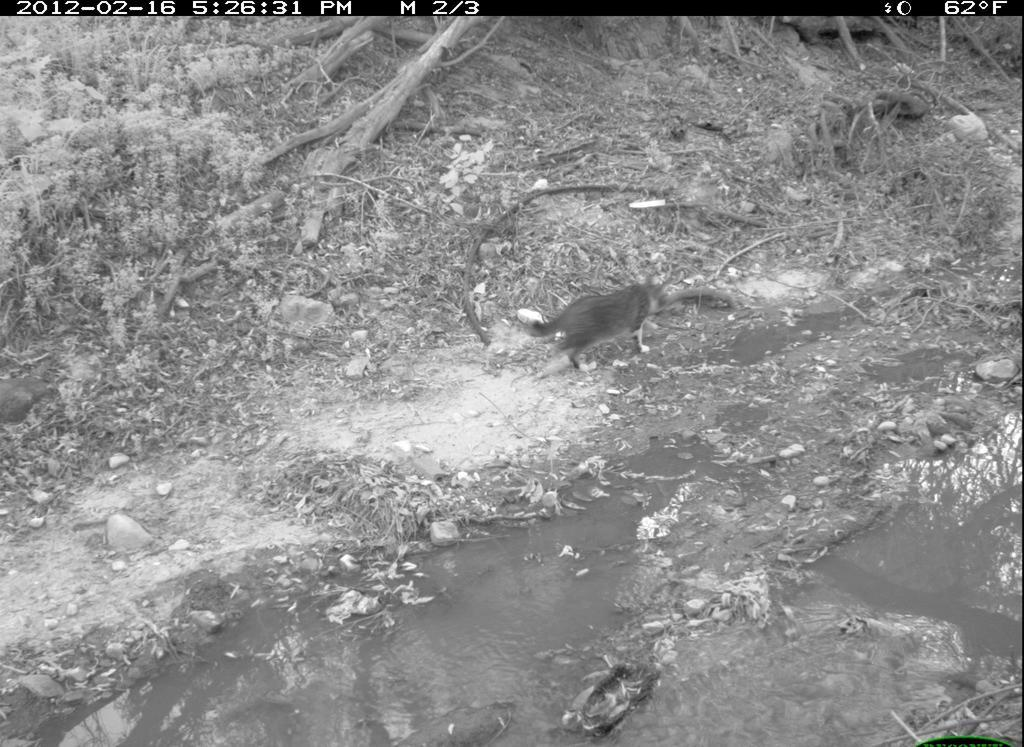cat: (506, 267, 682, 382)
